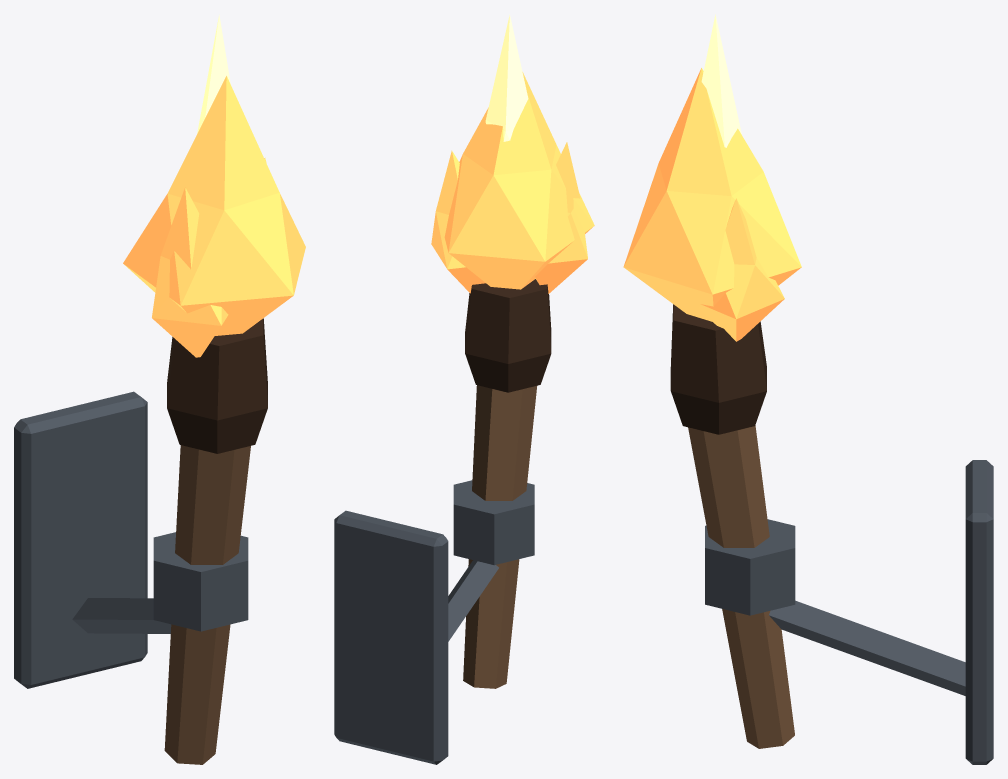
Rendered from Torch_Wall.fbx.
3 views of the same model, side by side, from view 1: azimuth 30°, elevation 25°; view 2: azimuth 150°, elevation 25°; view 3: azimuth 270°, elevation 25° (orthographic). The views are drawn at different scales.
Visible parts, largest first — view 1: Iron, Flame, Stick, Wrap, FlameCore; view 2: Iron, Flame, Stick, Wrap, FlameCore; view 3: Flame, Iron, Stick, Wrap, FlameCore.
Part boxes in pixels (x1,y1,x2,y2): Iron: (14, 391, 248, 688); Flame: (123, 76, 305, 357); Stick: (164, 445, 250, 764); Wrap: (167, 318, 267, 453); FlameCore: (197, 15, 230, 133); Iron: (334, 480, 534, 764); Flame: (431, 72, 594, 293); Stick: (463, 385, 536, 688); Wrap: (465, 279, 551, 392); FlameCore: (485, 14, 528, 141); Flame: (623, 68, 801, 341); Iron: (705, 460, 993, 764); Stick: (688, 425, 794, 748); Wrap: (670, 304, 766, 434); FlameCore: (701, 14, 741, 147).
Bounding box in the file's own units: 0.522 × 2.31 × 1.06.
